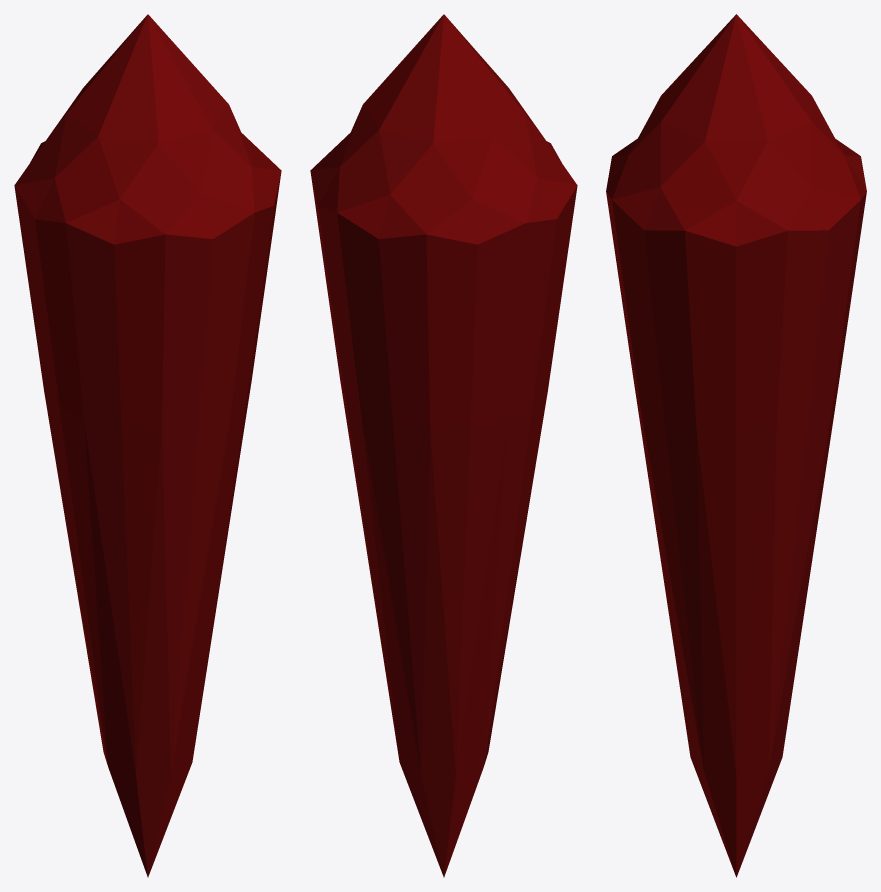
File: redCristal.fbx
3 renders of one model, left to right at view 1: azimuth 30°, elevation 25°; view 2: azimuth 150°, elevation 25°; view 3: azimuth 270°, elevation 25°, orthographic.
Visible parts, largest first — view 1: Cylinder; view 2: Cylinder; view 3: Cylinder.
Part boxes in pixels (box(x1,y1,x2,y2)): Cylinder: box(14, 14, 281, 877); Cylinder: box(310, 14, 577, 877); Cylinder: box(606, 14, 866, 877).
Bounding box in the file's own units: 22.14 × 80.9 × 22.14.
